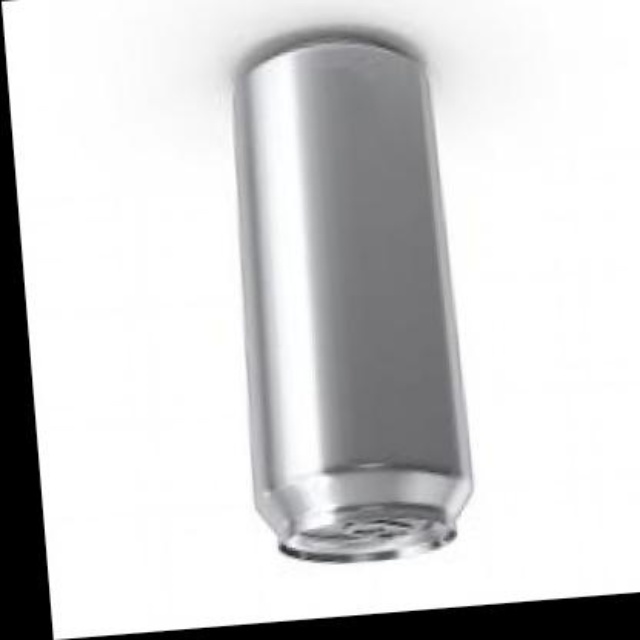trash: (235, 34, 471, 560)
